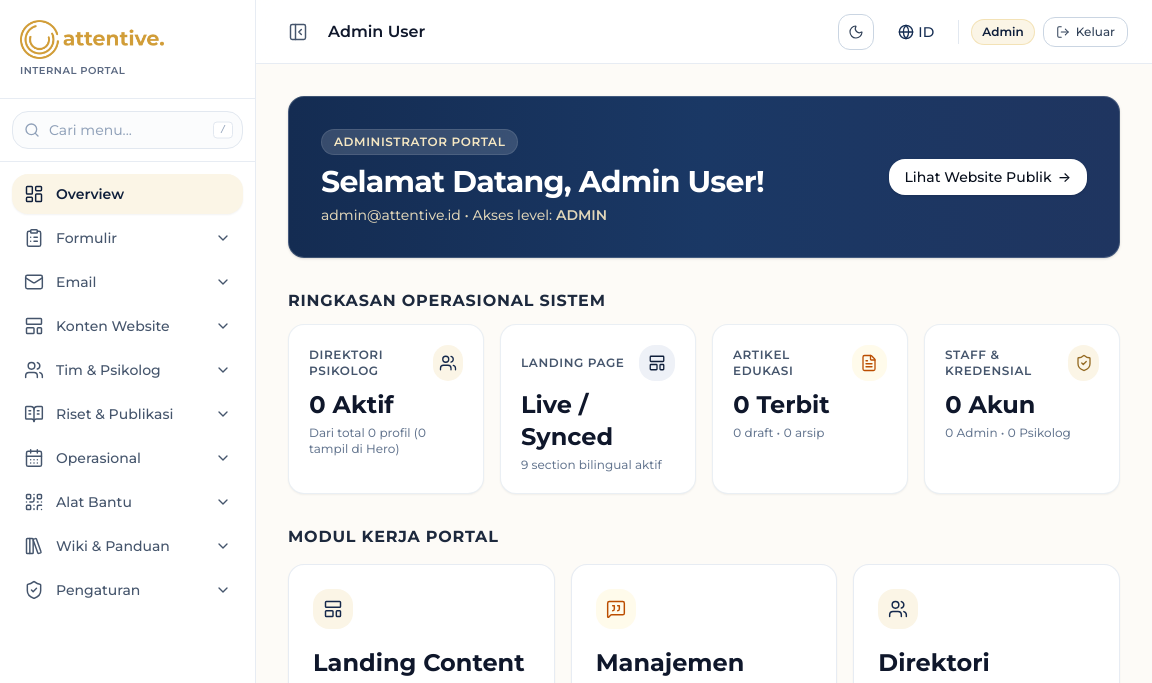
Test: dashboard sidebar › groups the menus instead of listing them all at the top level
expect the heading "Selamat Datang, Admin User!" is shown: met, box [321, 163, 764, 200]
Click the button "Konten Website" at x=128, y=326, box [12, 306, 243, 346]
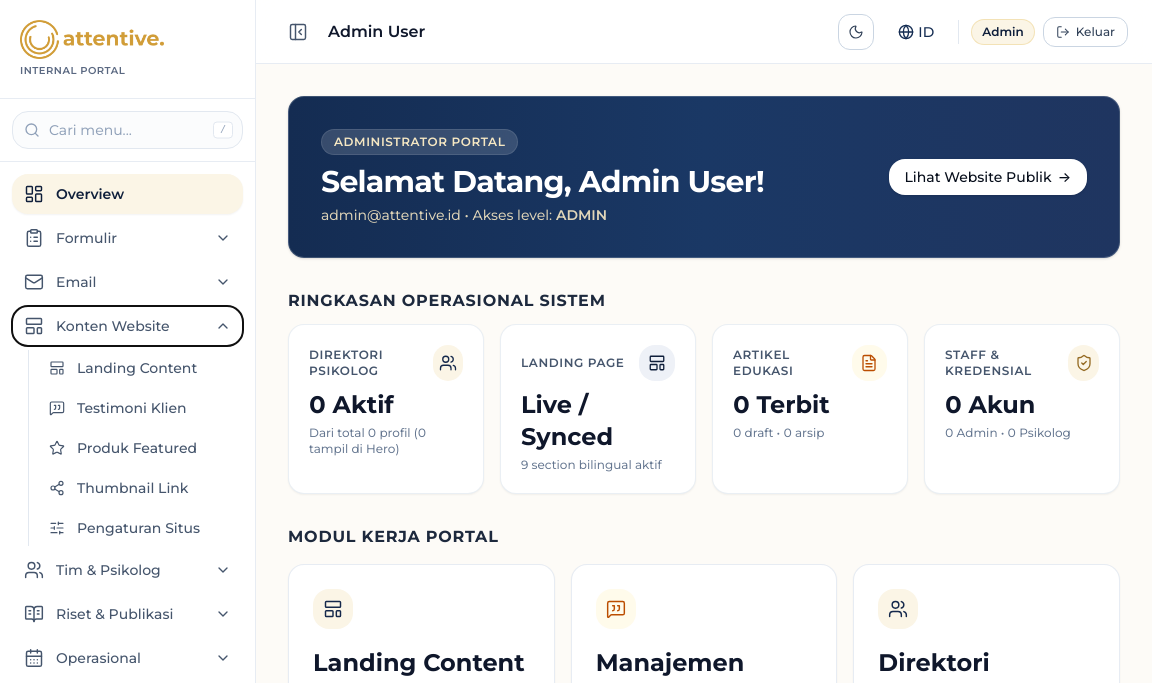
expect the link "Thumbnail Link" is shown: met, box [49, 479, 188, 497]
